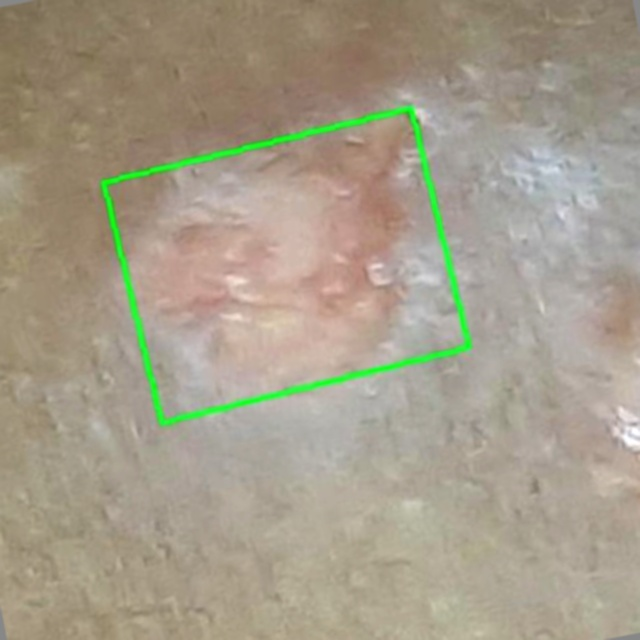Eczema: (104, 108, 470, 422)
